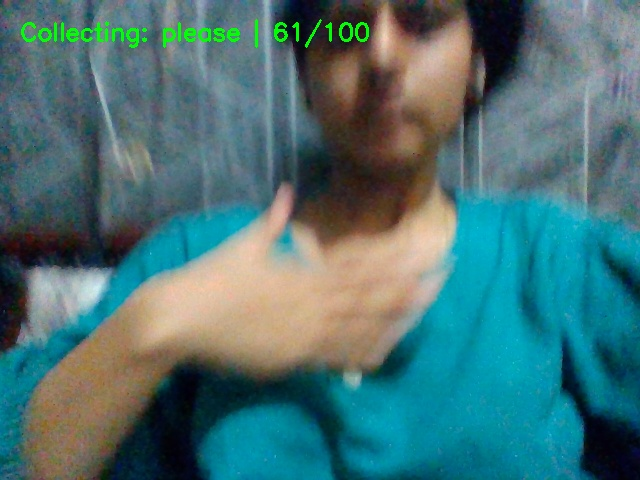please: (133, 187, 479, 412)
